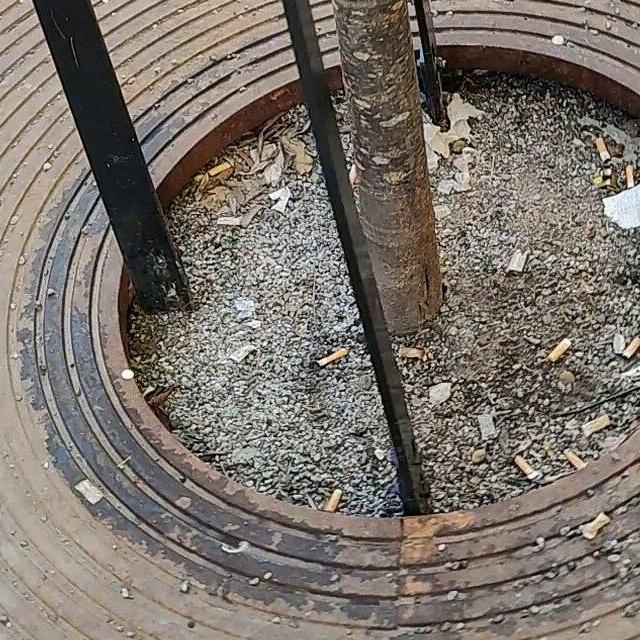Cigarette Butt: (511, 452, 543, 485), (544, 334, 573, 366), (582, 511, 610, 538), (310, 348, 344, 370), (202, 160, 235, 180), (563, 443, 585, 471), (322, 484, 341, 514), (592, 136, 612, 164), (623, 331, 640, 361), (624, 167, 635, 190)
